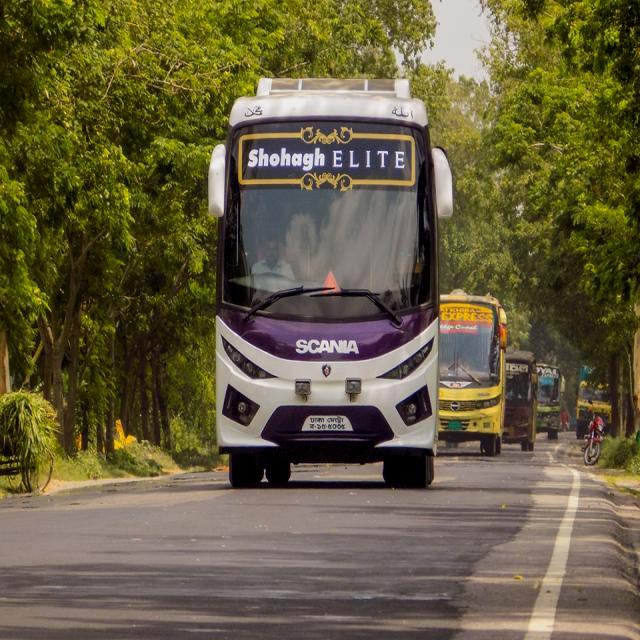bus: (208, 75, 455, 488), (437, 287, 508, 458)
